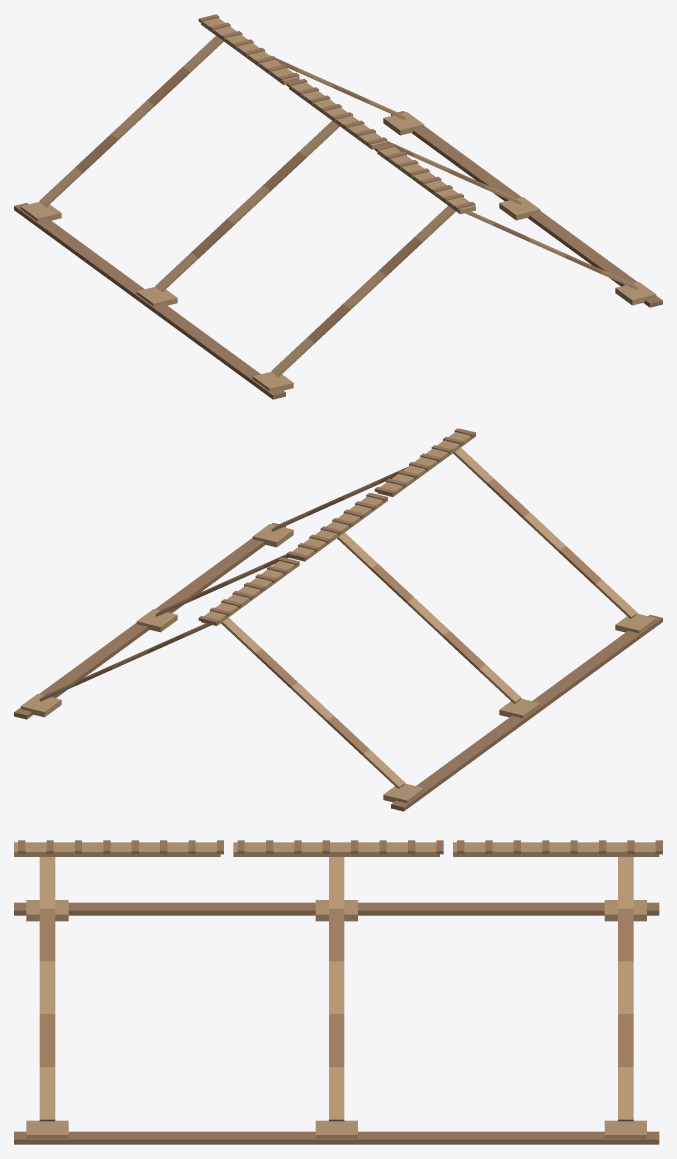
Rendered from 03_Ridge_Eave_Route_Perches.glb.
3 views of the same model, one above another, from view 1: azimuth 30°, elevation 25°; view 2: azimuth 150°, elevation 25°; view 3: azimuth 270°, elevation 25° (orthographic). The views are drawn at different scales.
Parts seen in each view (by area): view 1: West_Gutter_Lip, East_Gutter_Lip, Ridge_Perch_2, Ridge_Perch_1, Ridge_Perch_0, Eave_Landing_1_2, Eave_Landing_1_0, Eave_Landing_1_1; view 2: West_Gutter_Lip, East_Gutter_Lip, Ridge_Perch_2, Ridge_Perch_0, Ridge_Perch_1, Eave_Landing_1_2, Eave_Landing_1_1, Eave_Landing_1_0; view 3: East_Gutter_Lip, West_Gutter_Lip, Ridge_Perch_0, Ridge_Perch_1, Ridge_Perch_2, Slope_Grip_1_2_4, Slope_Grip_1_2_1, Slope_Grip_1_2_2, Slope_Grip_1_2_3, Slope_Grip_1_2_0, Slope_Grip_1_0_4, Slope_Grip_1_1_4 (+14 smaller).
Boxes of the visible parts, x1,y1,x2,y2 form: West_Gutter_Lip: (14, 203, 285, 399); East_Gutter_Lip: (391, 111, 662, 307); Ridge_Perch_2: (377, 146, 475, 214); Ridge_Perch_1: (289, 82, 387, 149); Ridge_Perch_0: (201, 18, 299, 85); Eave_Landing_1_2: (615, 282, 656, 305); Eave_Landing_1_0: (383, 112, 424, 135); Eave_Landing_1_1: (499, 197, 540, 220); West_Gutter_Lip: (391, 614, 662, 811); East_Gutter_Lip: (14, 522, 285, 719); Ridge_Perch_2: (377, 428, 475, 496); Ridge_Perch_0: (201, 557, 299, 625); Ridge_Perch_1: (289, 493, 387, 561); Eave_Landing_1_2: (252, 524, 293, 547); Eave_Landing_1_1: (136, 609, 177, 632); Eave_Landing_1_0: (20, 694, 61, 717); East_Gutter_Lip: (14, 1131, 659, 1144); West_Gutter_Lip: (14, 902, 659, 915); Ridge_Perch_0: (453, 842, 659, 856); Ridge_Perch_1: (233, 842, 439, 856); Ridge_Perch_2: (14, 842, 220, 856); Slope_Grip_1_2_4: (39, 1067, 55, 1121); Slope_Grip_1_2_1: (39, 908, 55, 961); Slope_Grip_1_2_2: (39, 961, 55, 1013); Slope_Grip_1_2_3: (39, 1014, 55, 1066); Slope_Grip_1_2_0: (39, 857, 55, 908); Slope_Grip_1_0_4: (618, 1067, 633, 1121); Slope_Grip_1_1_4: (329, 1067, 344, 1121).
Size of the model in its own units: 10.86 by 3.86 by 12.57.
